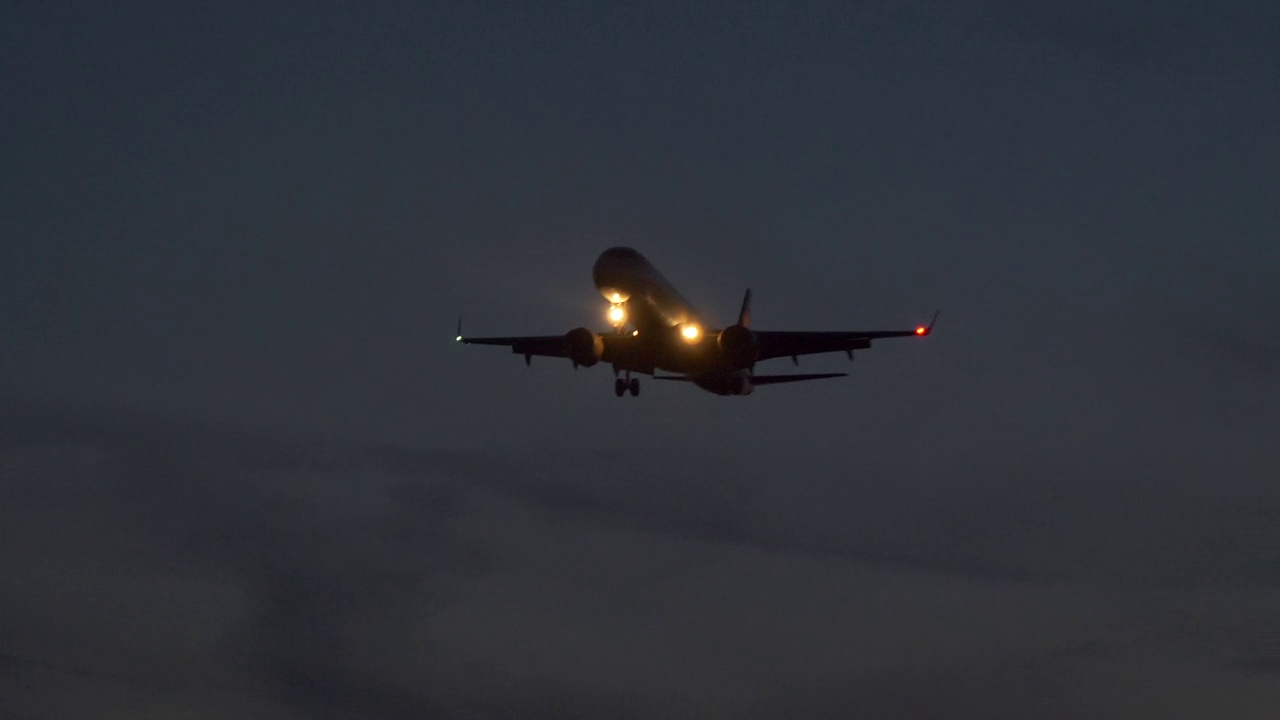plane: (454, 244, 939, 396)
